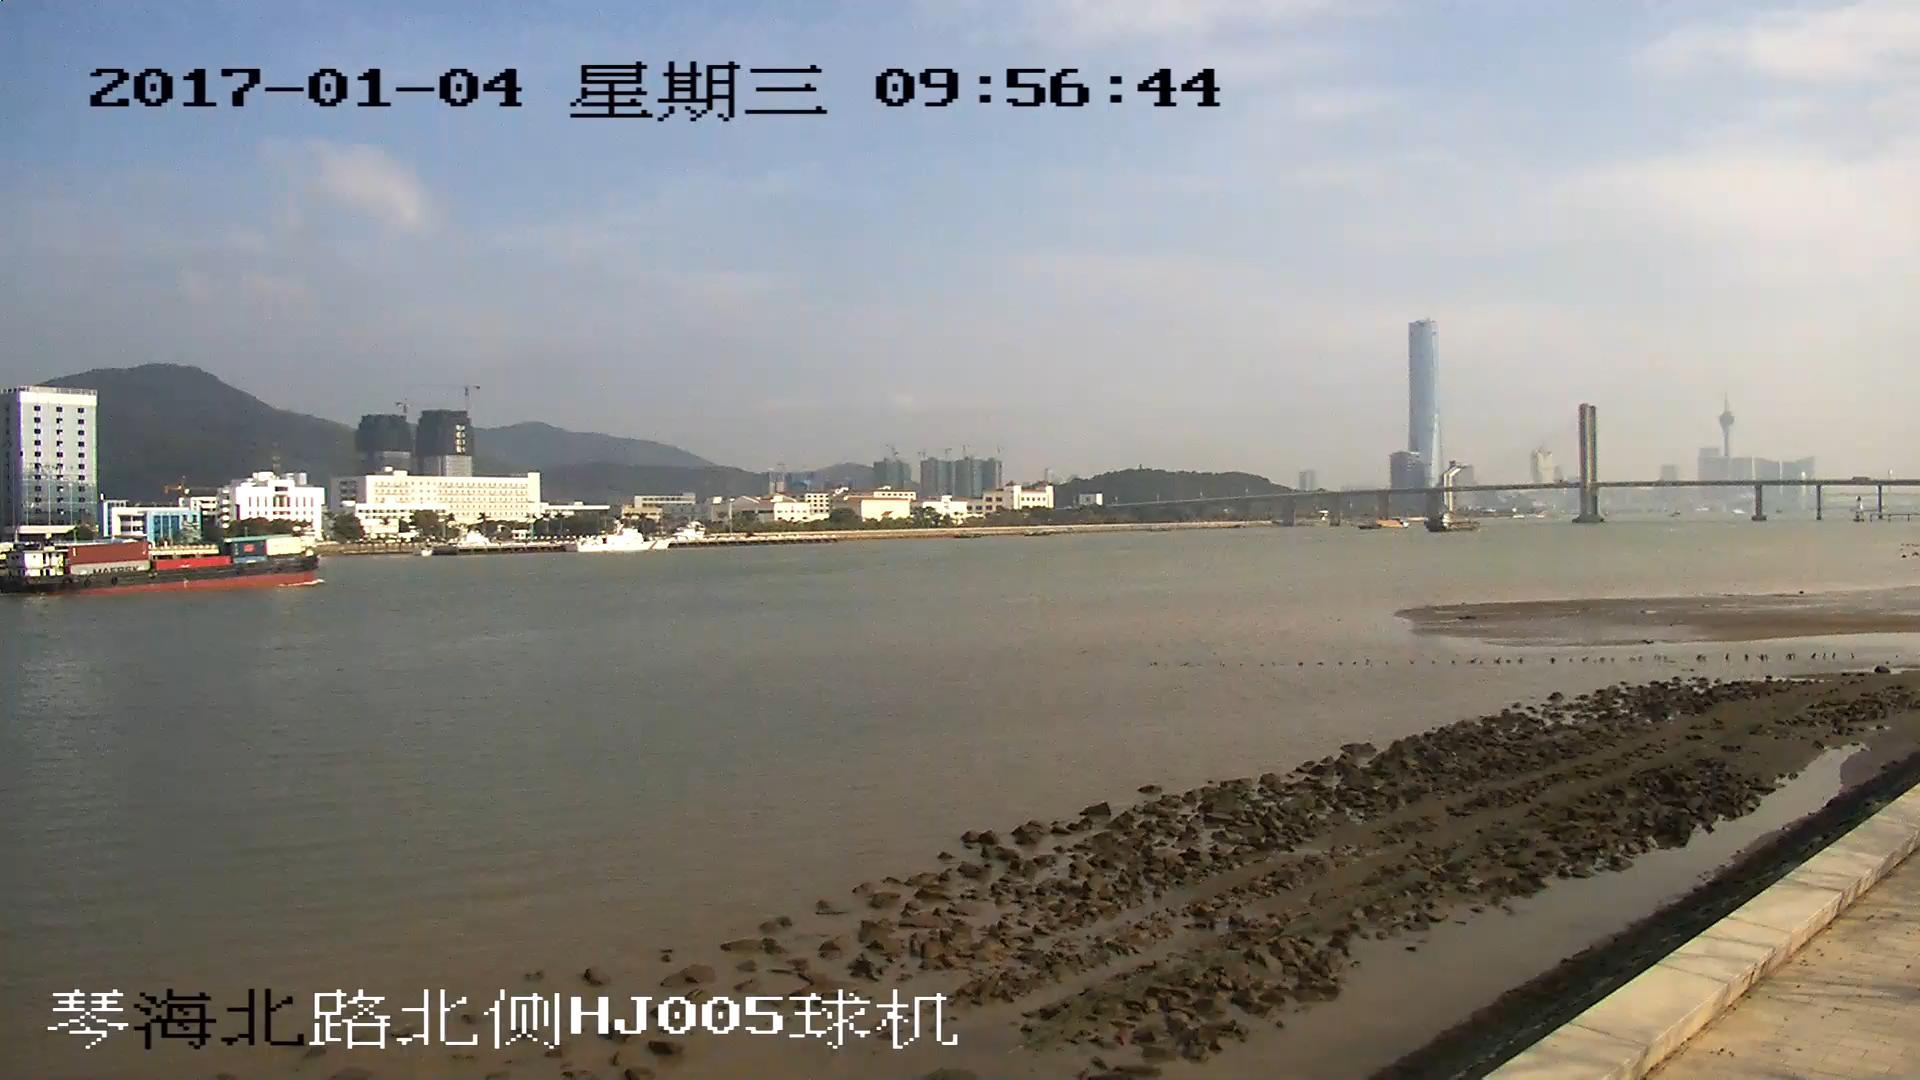Ship: (3, 531, 322, 589)
